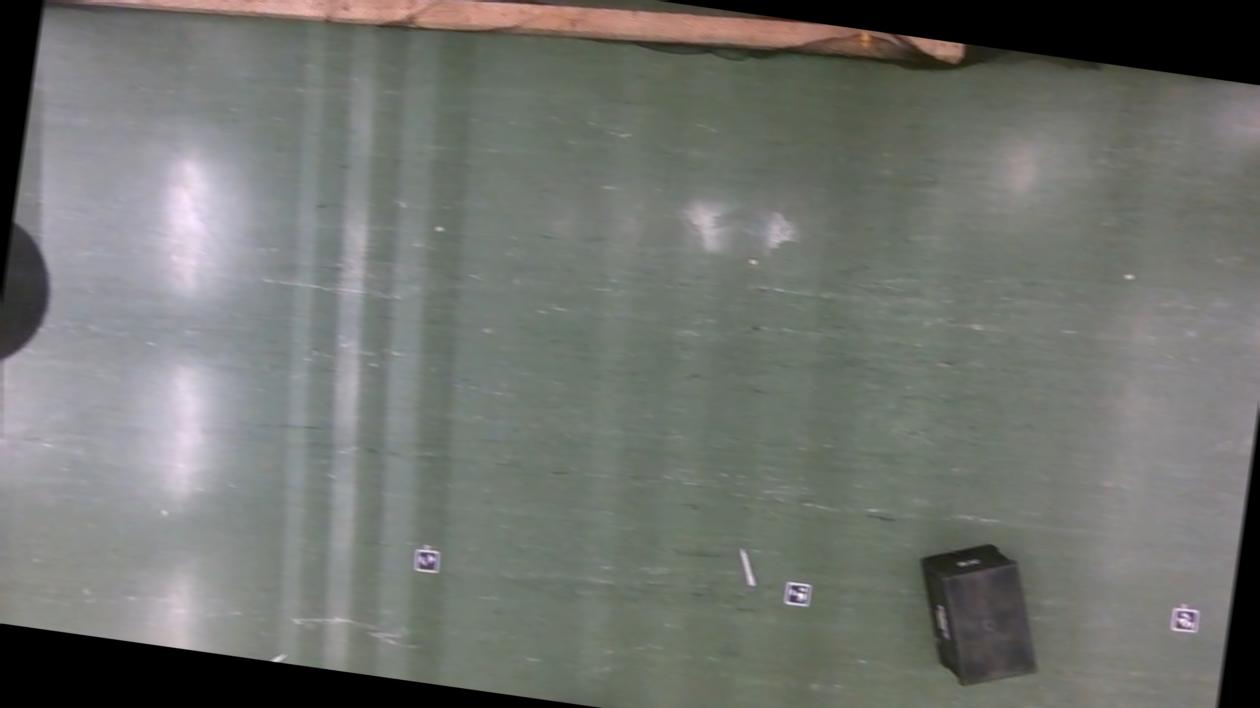probes: (735, 546, 757, 585), (262, 651, 286, 663)
rako: (904, 532, 1053, 694)
